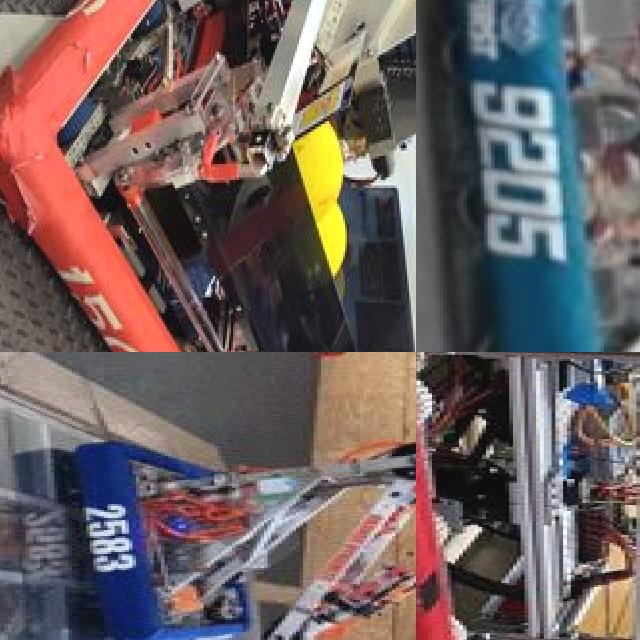FRC-Robots: (0, 0, 416, 352), (66, 391, 416, 640), (438, 0, 640, 352), (416, 352, 640, 640)
